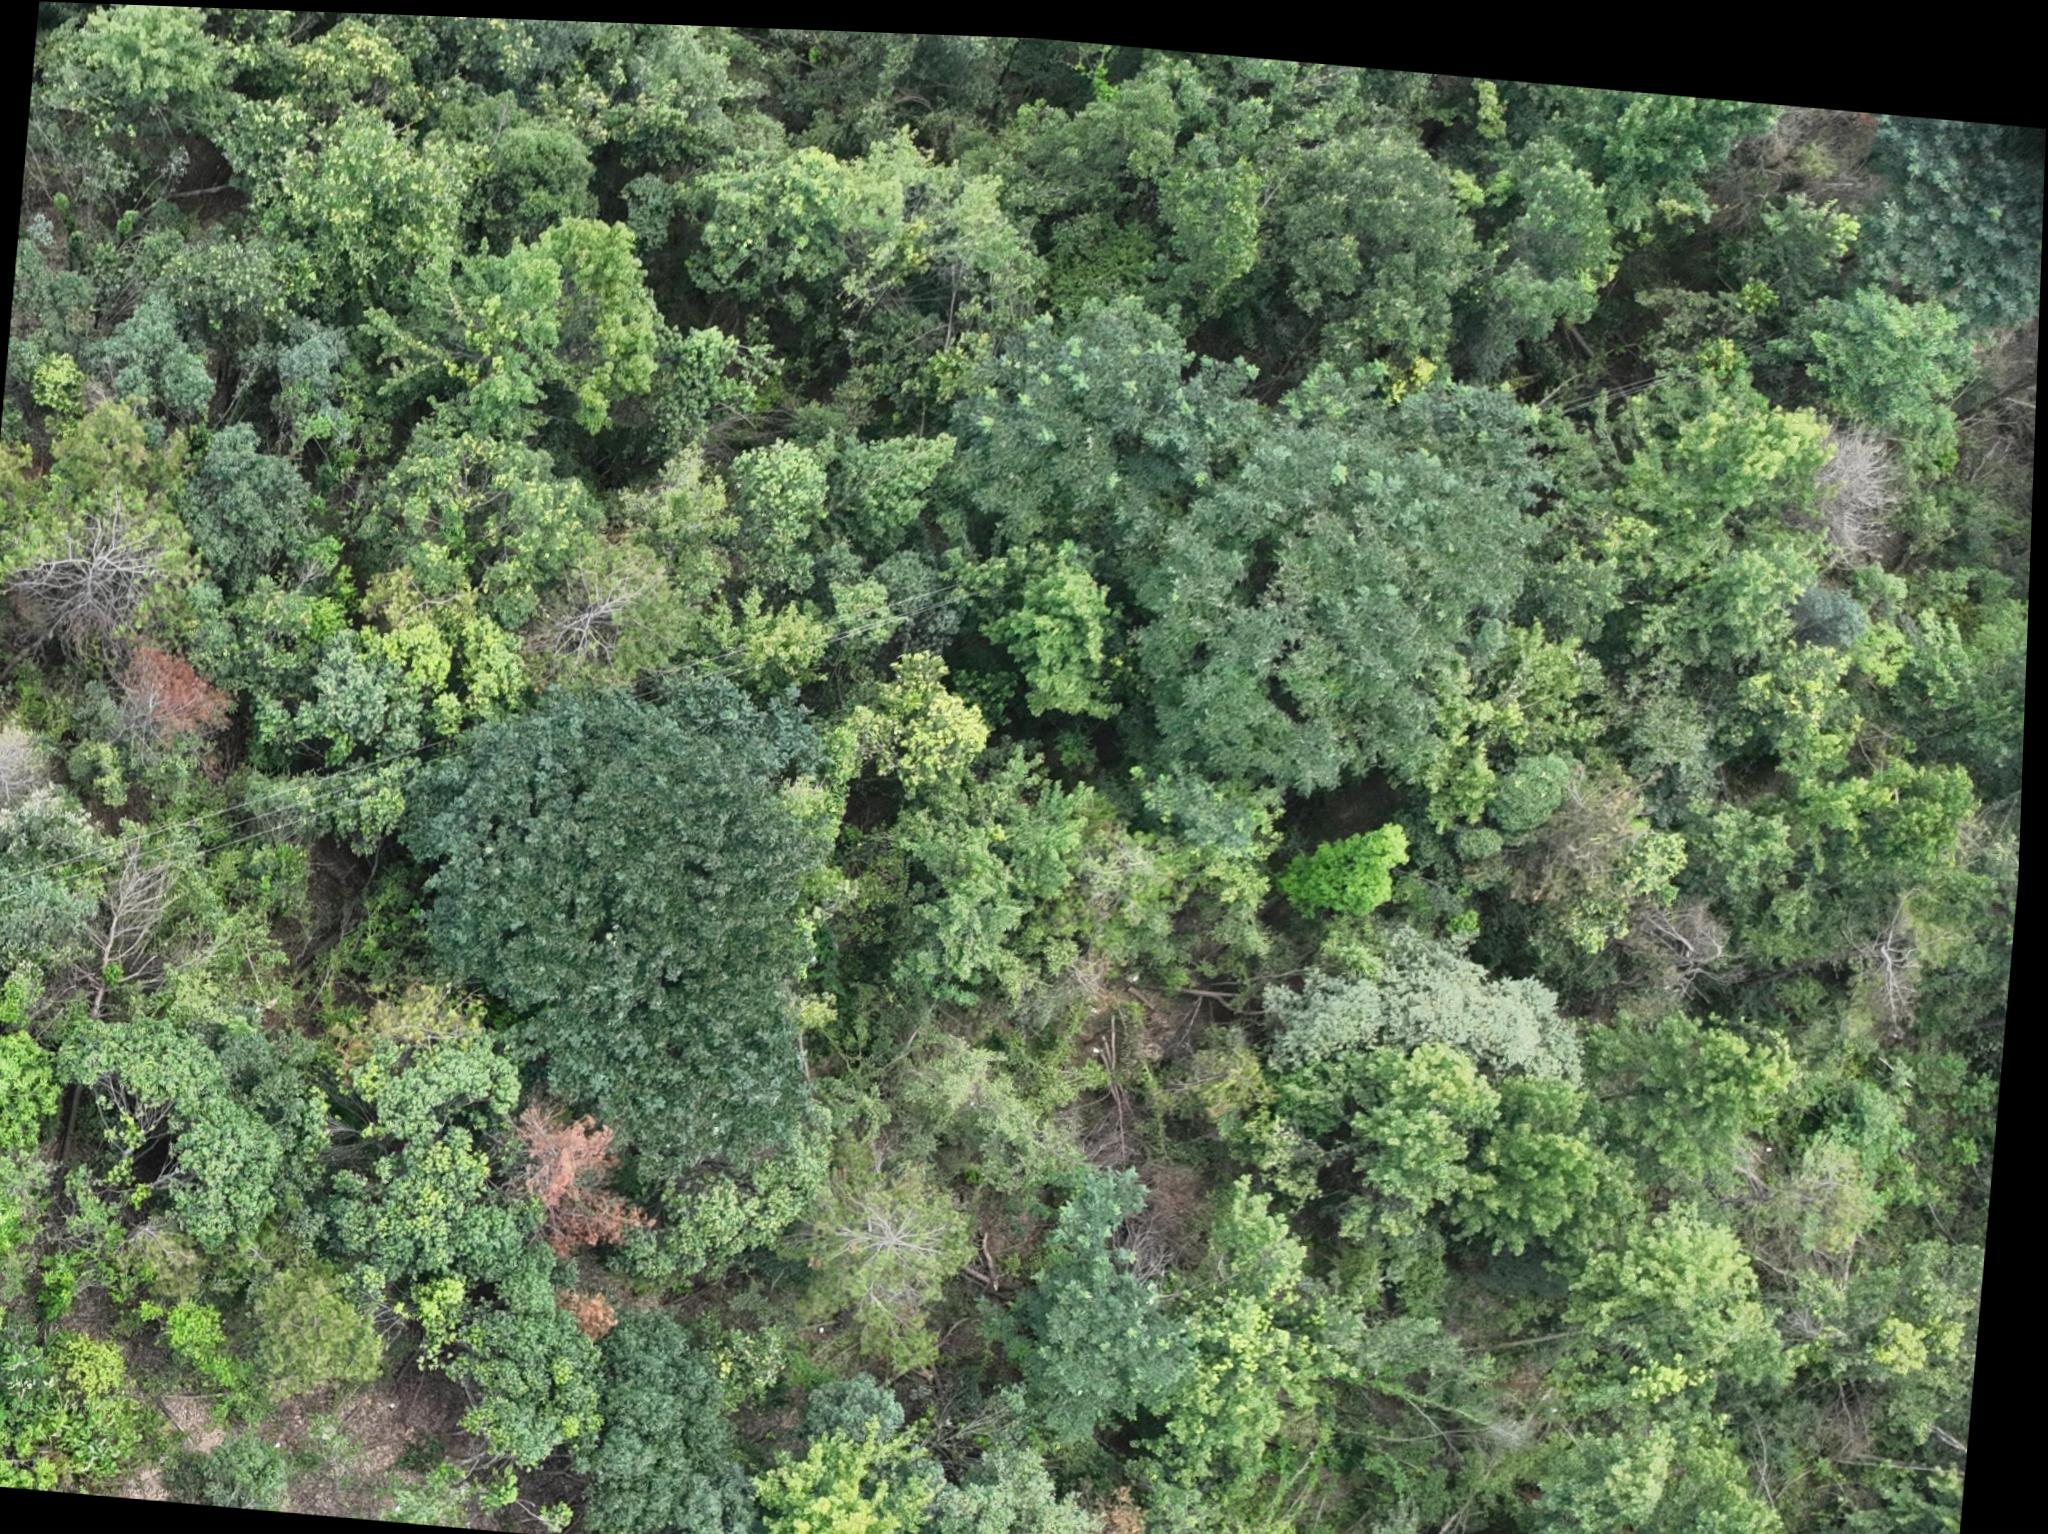dead: (1811, 413, 1901, 551), (0, 719, 63, 828)
heavy: (512, 1102, 667, 1347), (124, 636, 243, 754)
